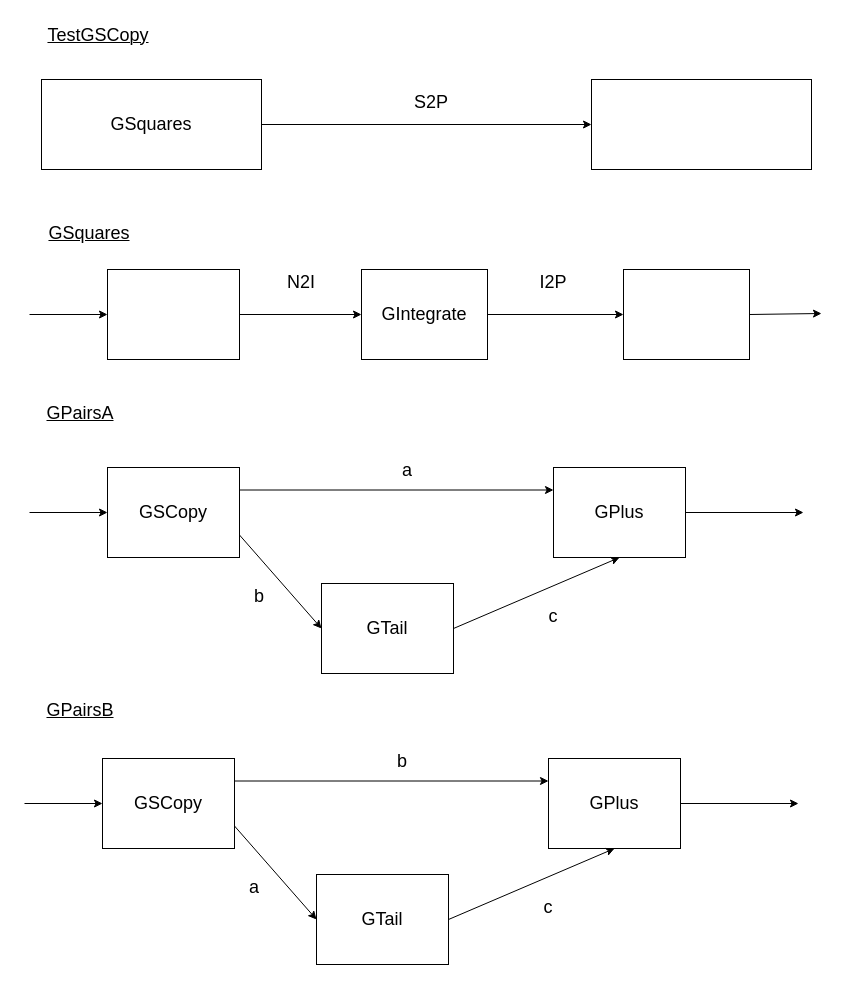
The diagram is 847 pixels wide and 982 high, and some of its shapes have lost their labels. The centre of each missing label's shape, as x and y in pixels:
GNumbers: the point at 173,314
GPrint: the point at 701,124
GSPairs(A/B): the point at 686,314
